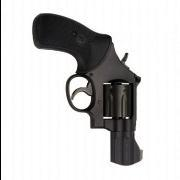gun: (30, 14, 142, 167)
